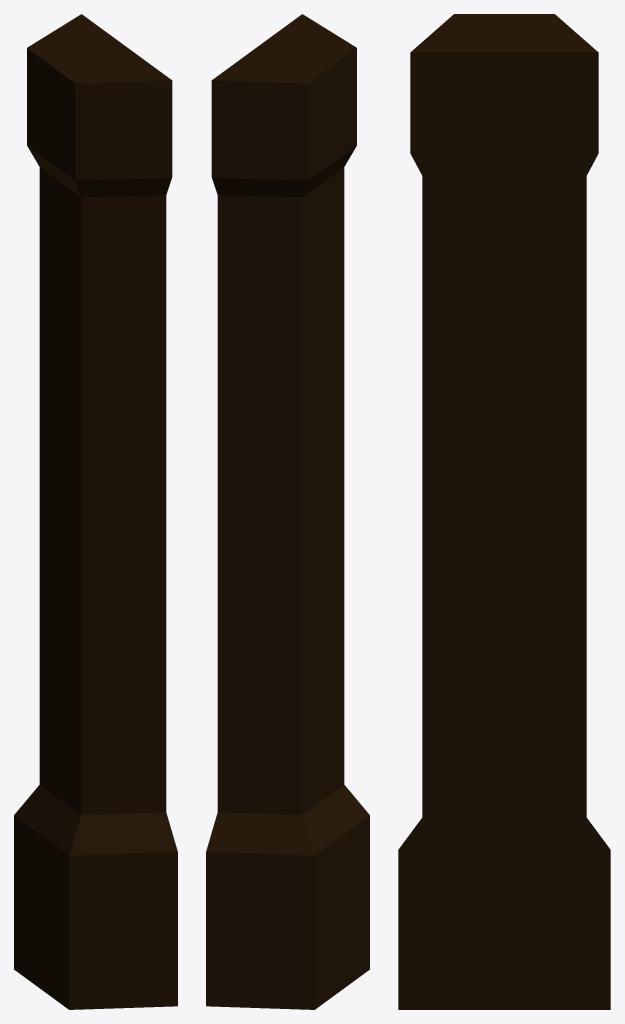
File: Inner Pillar.obj
The picture shows the model from 3 angles, left to right: view 1: azimuth 30°, elevation 25°; view 2: azimuth 150°, elevation 25°; view 3: azimuth 270°, elevation 25°; orthographic projection. The views are drawn at different scales.
Visible parts, largest first — view 1: Inner_Pillar_01; view 2: Inner_Pillar_01; view 3: Inner_Pillar_01.
Boxes of the visible parts, x1,y1,x2,y2 form: Inner_Pillar_01: (14,14,177,1009); Inner_Pillar_01: (206,14,369,1009); Inner_Pillar_01: (398,14,610,1009).
Size of the model in its own units: 2614 by 27031 by 5425.
